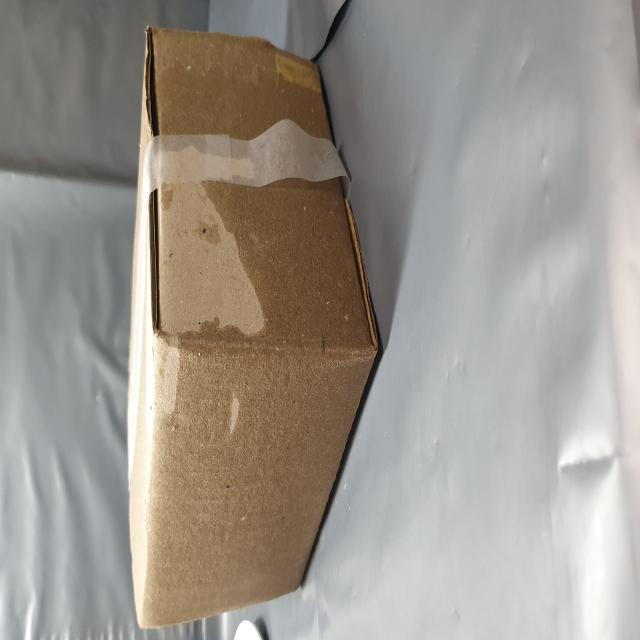wet: (15, 225, 253, 640), (283, 271, 346, 592)
